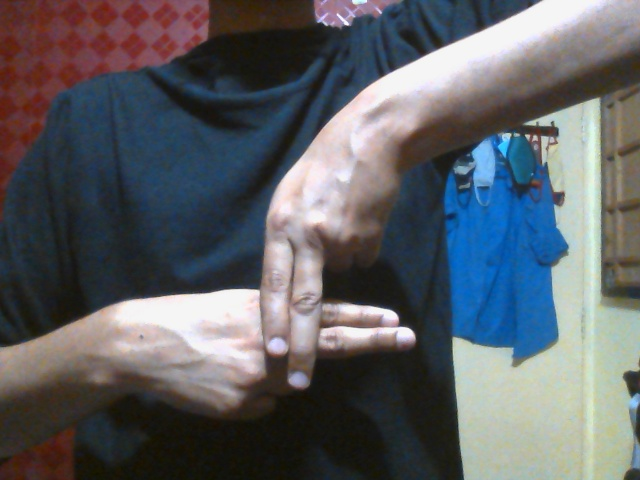F: (116, 128, 418, 424)
